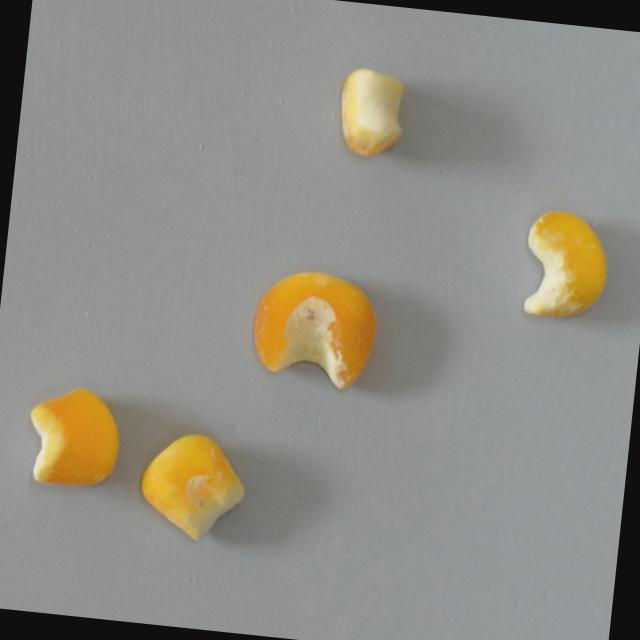no_canjicado: (247, 264, 383, 391), (22, 380, 126, 490)
pelicula: (136, 425, 251, 545), (518, 206, 617, 324), (335, 64, 411, 158)
